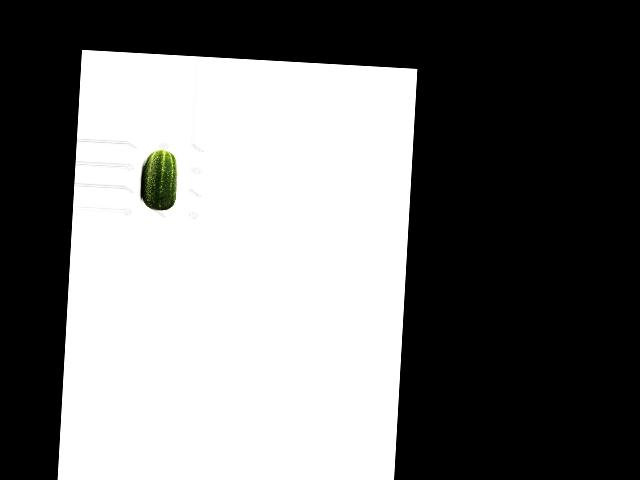cucumber: (140, 149, 178, 211)
